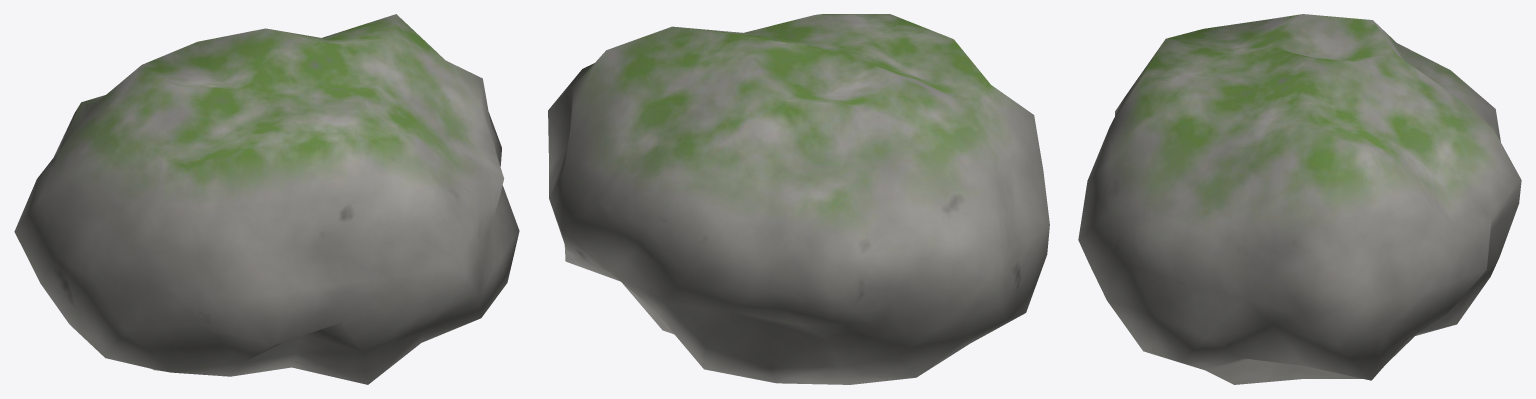
File: boulder.glb
3 views of the same model, side by side, from view 1: azimuth 30°, elevation 25°; view 2: azimuth 150°, elevation 25°; view 3: azimuth 270°, elevation 25° (orthographic). The views are drawn at different scales.
Parts seen in each view (by area): view 1: boulder; view 2: boulder; view 3: boulder.
Part boxes in pixels (x1,y1,x2,y2): boulder: (14, 14, 519, 384); boulder: (548, 14, 1049, 384); boulder: (1078, 14, 1521, 384).
Bounding box in the file's own units: 3.94 × 2.48 × 3.37.
1 material, 1 textured.
